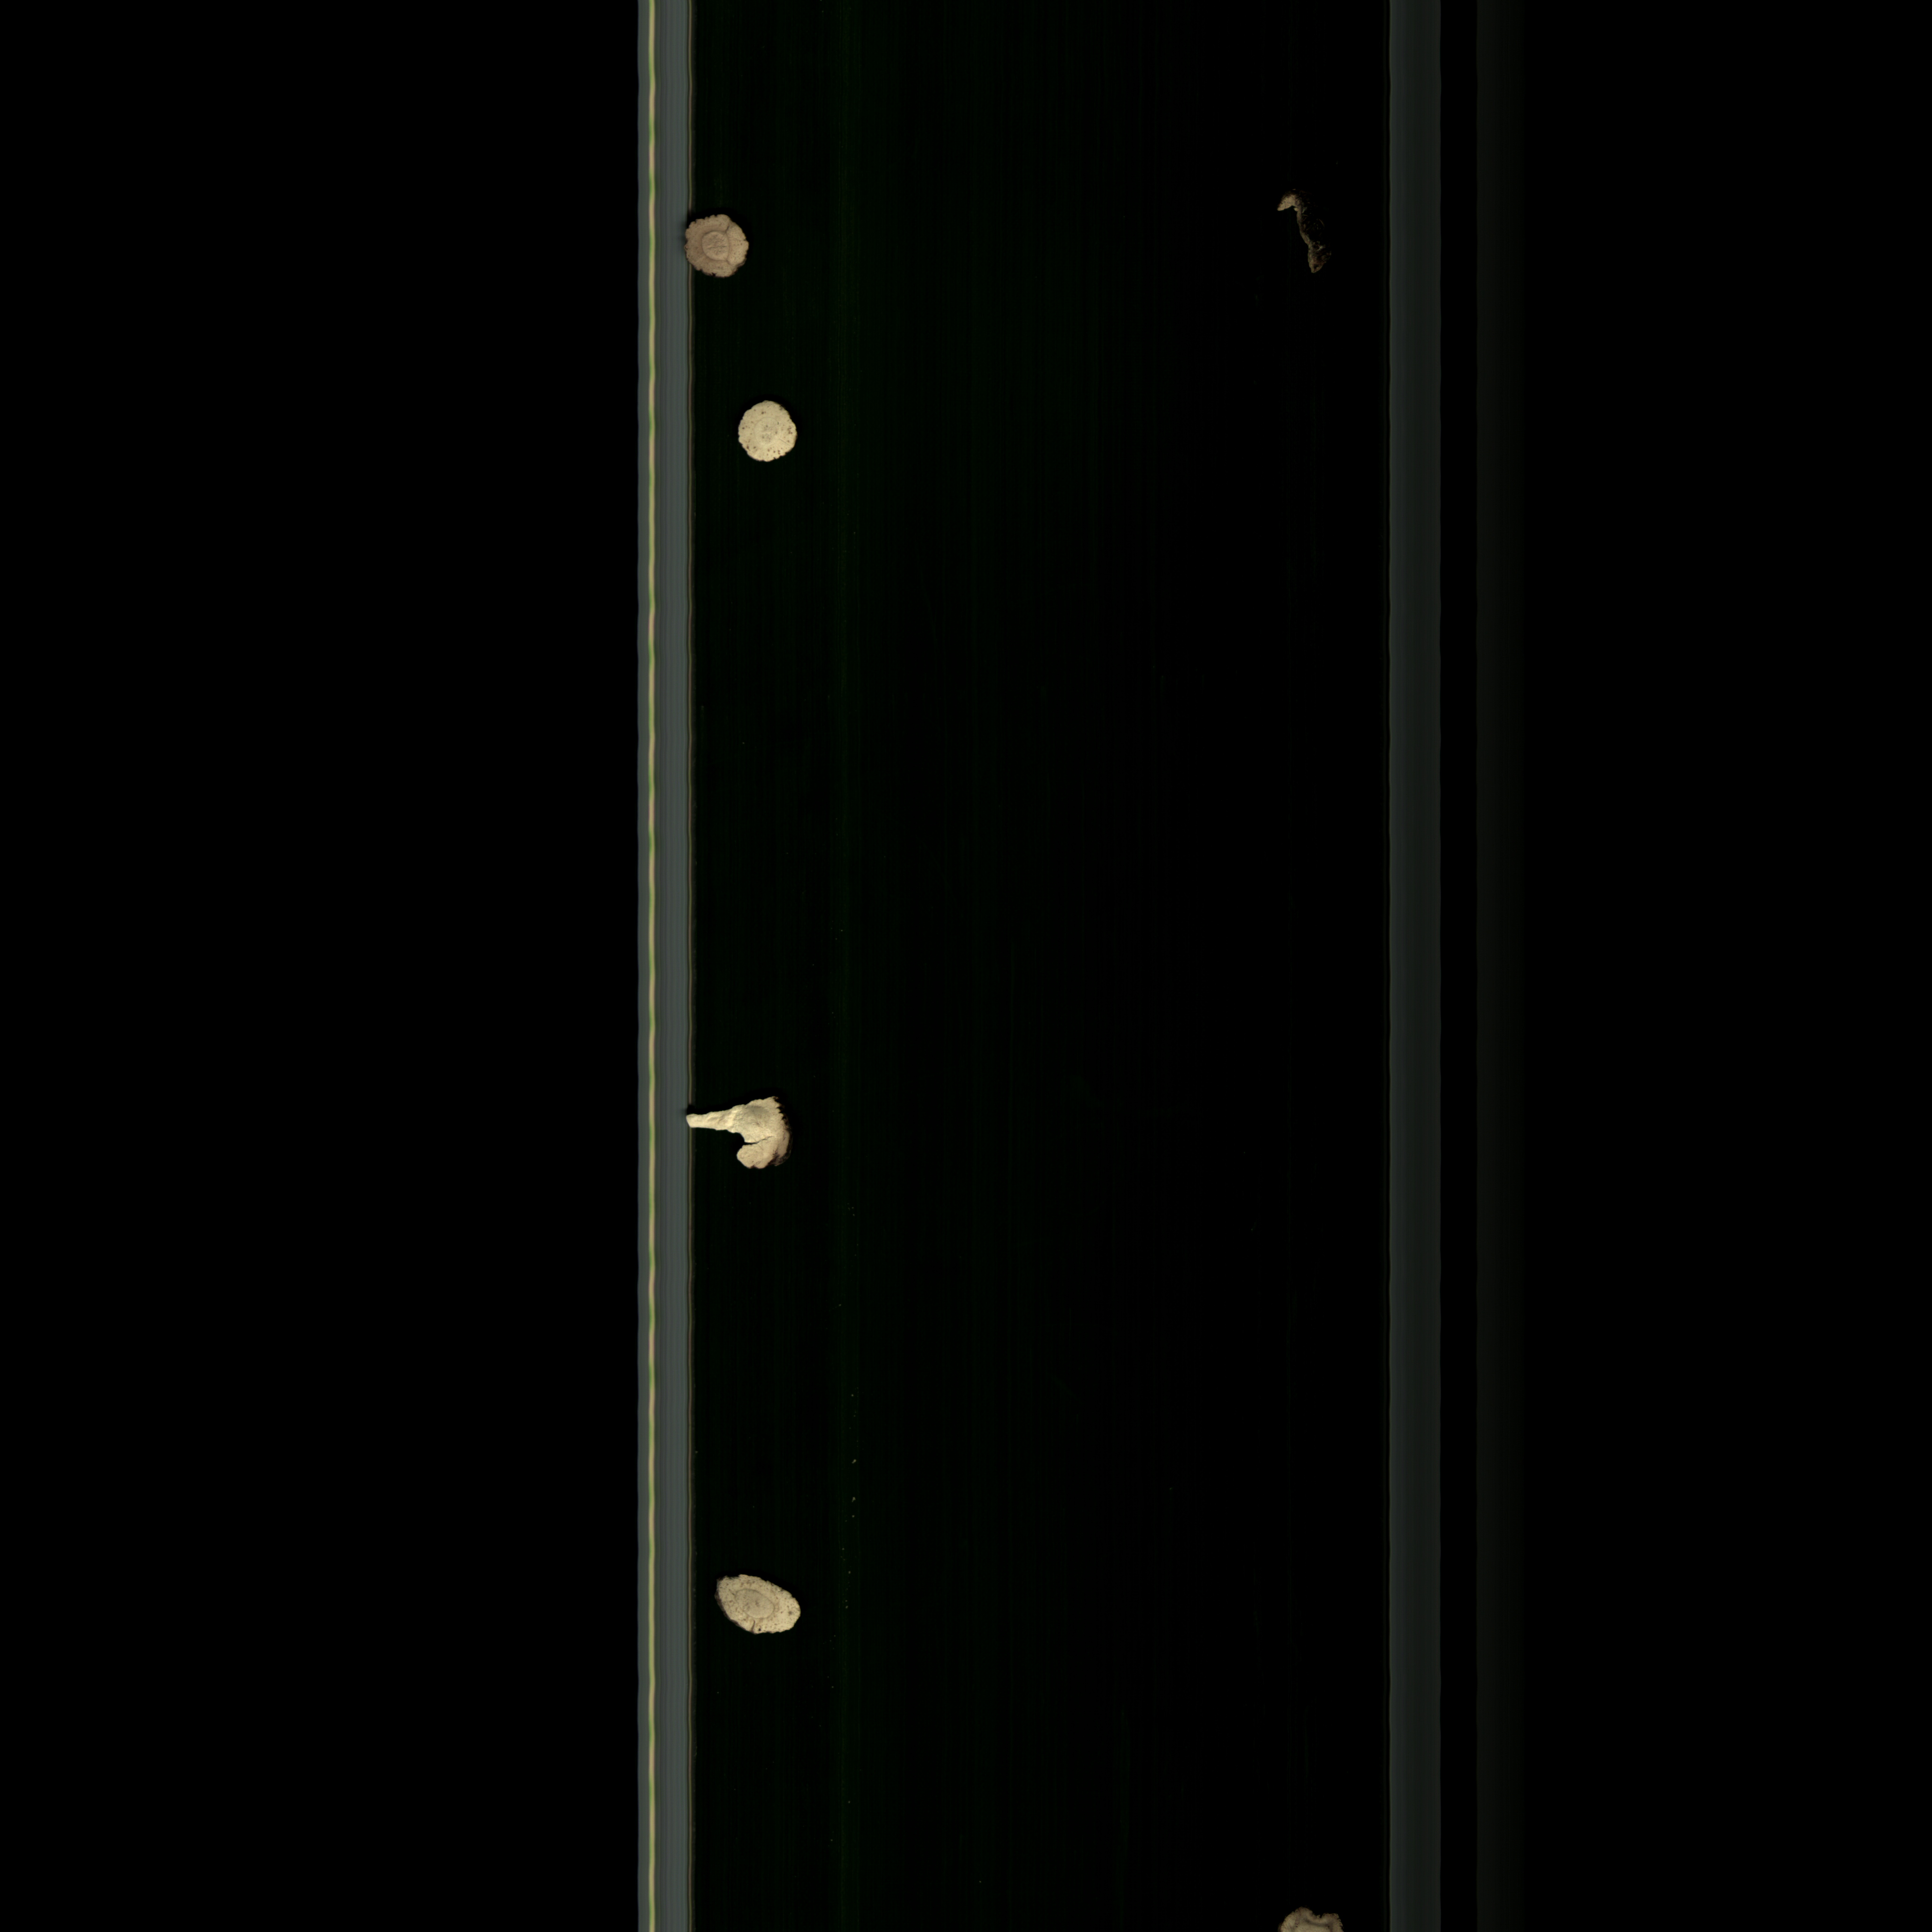bark: (1263, 186, 1338, 292)
debris: (685, 1085, 805, 1180)
distortion: (715, 1566, 807, 1642)
moldy: (678, 209, 766, 283), (1263, 1907, 1348, 1932)
